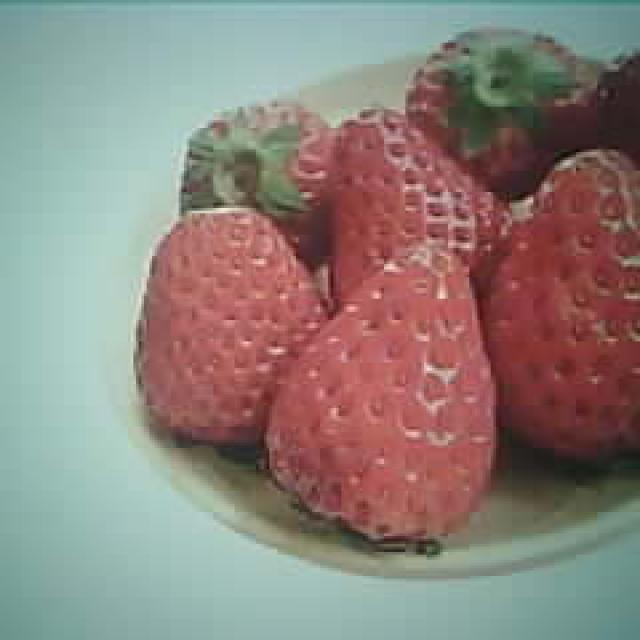ripe: (265, 247, 493, 544), (487, 151, 640, 457), (132, 212, 327, 444)
